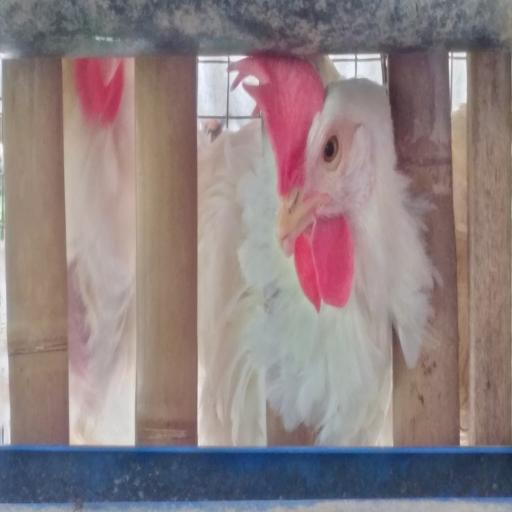healthy: (265, 82, 381, 298)
